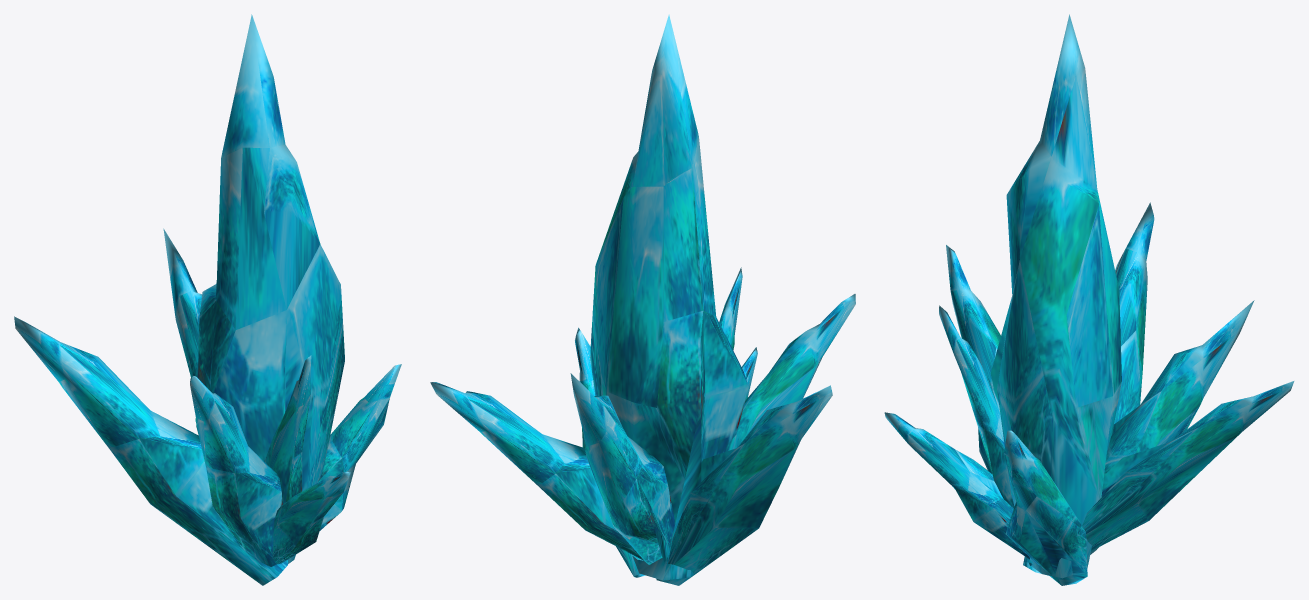
File: Efc_0015.FBX
3 renders of one model, left to right at view 1: azimuth 30°, elevation 25°; view 2: azimuth 150°, elevation 25°; view 3: azimuth 270°, elevation 25°, orthographic. The views are drawn at different scales.
Parts seen in each view (by area): view 1: suibing; view 2: suibing; view 3: suibing.
Part boxes in pixels (x1=…): suibing: x1=14, y1=14, x2=401, y2=585; suibing: x1=430, y1=14, x2=855, y2=585; suibing: x1=884, y1=14, x2=1294, y2=585.
Bounding box in the file's own units: 140 × 235 × 155.
Materials: 1 (1 with a texture image).
